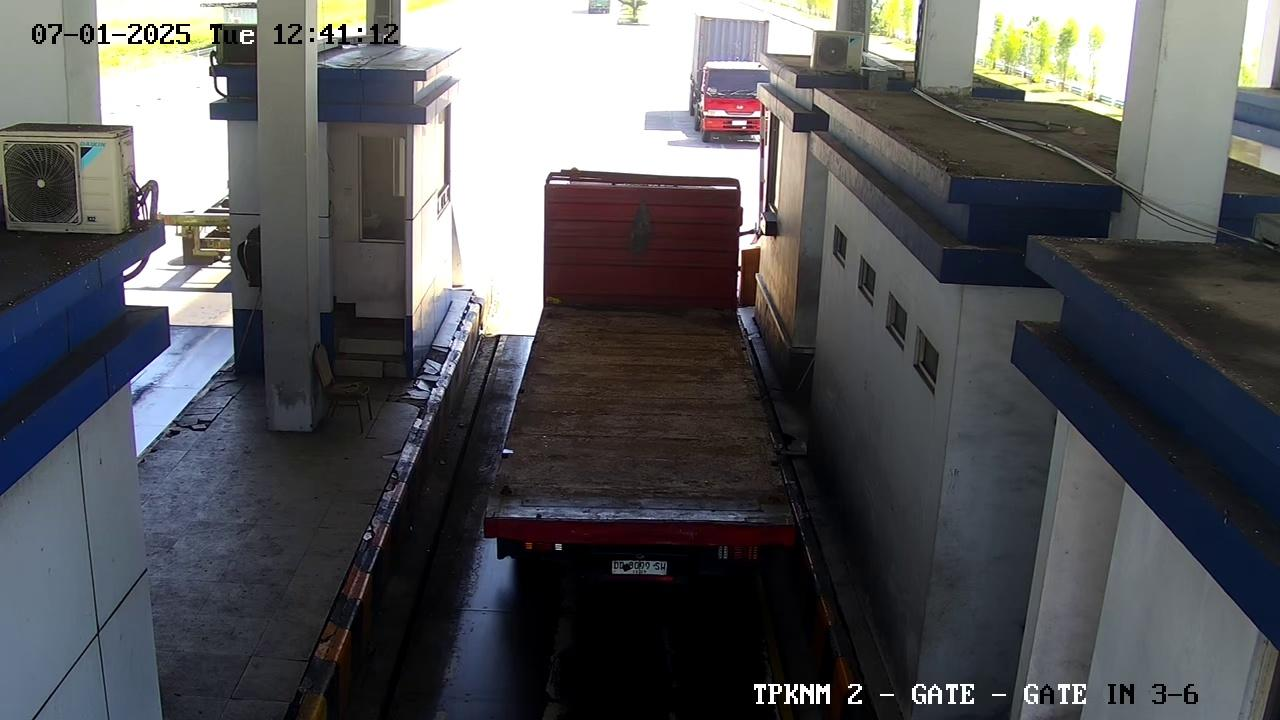plate_number: (601, 554, 675, 585)
